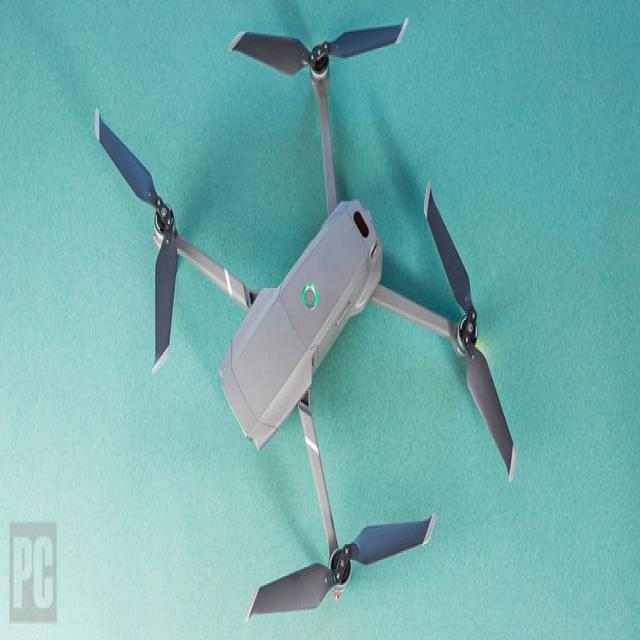drone: (88, 21, 546, 601)
